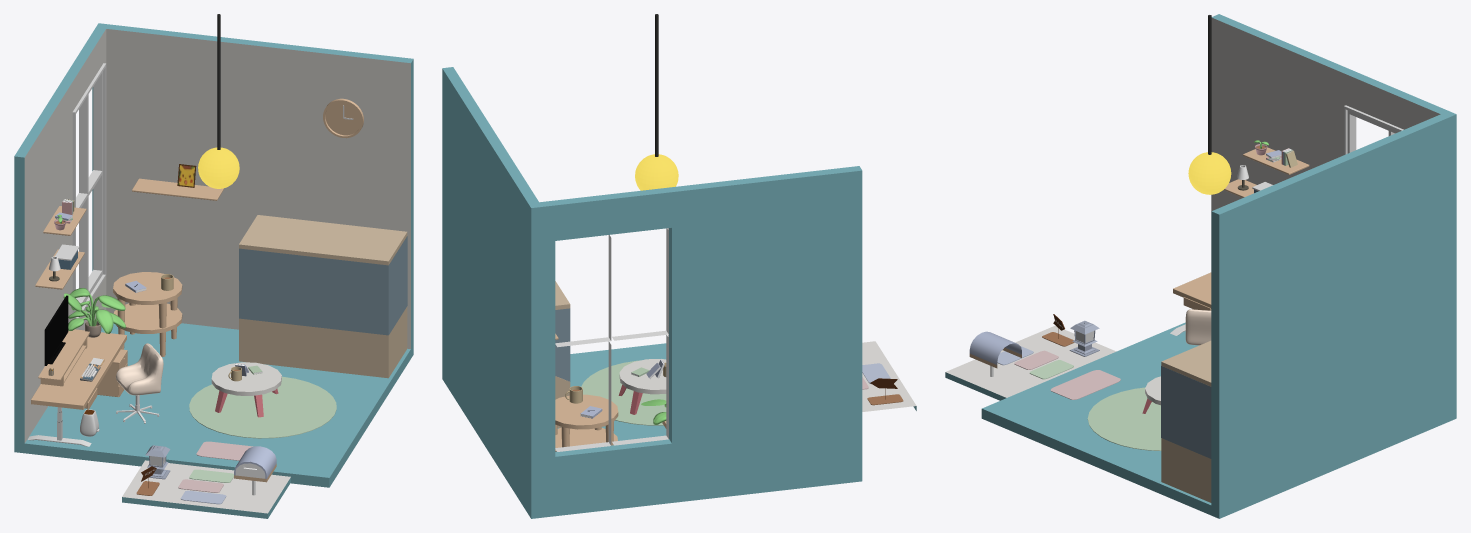
The model's file is website.glb.
3 views of the same model, side by side, from view 1: azimuth 30°, elevation 25°; view 2: azimuth 150°, elevation 25°; view 3: azimuth 270°, elevation 25° (orthographic). The views are drawn at different scales.
Parts seen in each view (by area): view 1: Cube.001, Cube.101, AquaGlass, Circle.011, Plane, Cube.114, Cylinder.013, Desk Top, Ceiling lamp, Desk plant, Cylinder.016, Cube.100 (+13 smaller); view 2: Cube.001, Cylinder.013, Plane, Circle.011, Ceiling lamp, Cube.114, Cylinder.016, AquaGlass, Cube.101; view 3: Cube.001, Cube.114, AquaGlass, Cube.101, Circle.011, Ceiling lamp, Cylinder.014, Cube.080, Plane, Cube.100, Desk Top, Plane.008 (+1 smaller).
Boxes of the visible parts, left/top/right/bottom form: Cube.001: left=14, top=23, right=413, bottom=487; Cube.101: left=239, top=215, right=407, bottom=378; AquaGlass: left=239, top=236, right=407, bottom=335; Circle.011: left=189, top=376, right=336, bottom=438; Plane: left=72, top=63, right=106, bottom=318; Cube.114: left=122, top=460, right=290, bottom=518; Cylinder.013: left=113, top=272, right=182, bottom=356; Desk Top: left=31, top=329, right=126, bottom=409; Ceiling lamp: left=198, top=14, right=239, bottom=188; Desk plant: left=63, top=288, right=125, bottom=337; Cylinder.016: left=211, top=362, right=281, bottom=395; Cube.100: left=115, top=343, right=163, bottom=395; Cube.001: left=442, top=67, right=862, bottom=518; Cylinder.013: left=555, top=394, right=618, bottom=451; Plane: left=555, top=228, right=668, bottom=451; Circle.011: left=581, top=360, right=666, bottom=425; Ceiling lamp: left=635, top=14, right=678, bottom=190; Cube.114: left=862, top=341, right=916, bottom=411; Cylinder.016: left=619, top=359, right=666, bottom=394; AquaGlass: left=555, top=308, right=570, bottom=381; Cube.101: left=555, top=281, right=570, bottom=428; Cube.001: left=981, top=14, right=1456, bottom=518; Cube.114: left=945, top=325, right=1116, bottom=400; AquaGlass: left=1161, top=366, right=1211, bottom=458; Cube.101: left=1161, top=340, right=1211, bottom=502; Circle.011: left=1087, top=387, right=1161, bottom=450; Ceiling lamp: left=1188, top=15, right=1231, bottom=194; Cylinder.014: left=969, top=331, right=1021, bottom=368; Cube.080: left=1050, top=370, right=1120, bottom=399; Plane: left=1344, top=105, right=1403, bottom=154; Cube.100: left=1185, top=309, right=1211, bottom=345; Desk Top: left=1173, top=272, right=1211, bottom=308; Plane.008: left=1069, top=320, right=1099, bottom=356.
Bounding box in the file's own units: 22.15 × 20.76 × 23.86.
Materials: 53 (1 with a texture image).
